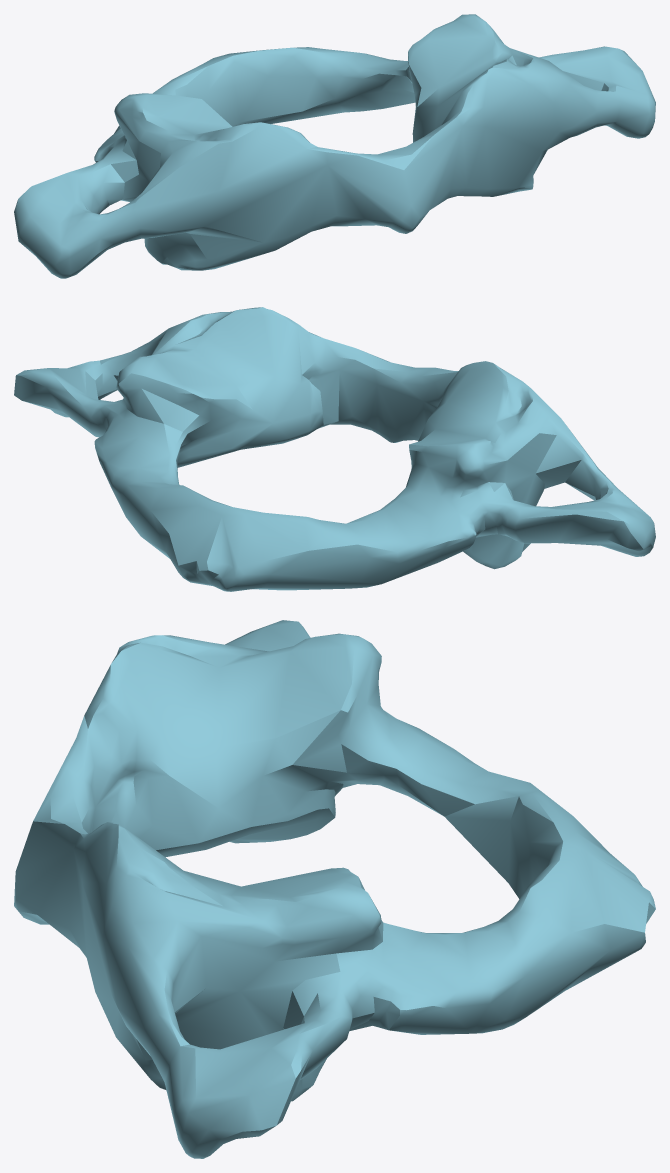
The model's file is atlas-c1.glb.
3 renders of one model, top to bottom at view 1: azimuth 30°, elevation 25°; view 2: azimuth 150°, elevation 25°; view 3: azimuth 270°, elevation 25°, orthographic. The views are drawn at different scales.
Parts seen in each view (by area): view 1: grp1; view 2: grp1; view 3: grp1.
Part boxes in pixels (x1=…): grp1: x1=14, y1=14, x2=655, y2=278; grp1: x1=14, y1=307, x2=655, y2=591; grp1: x1=14, y1=620, x2=655, y2=1158.
Size of the model in its own units: 0.0816 by 0.0192 by 0.0471.
